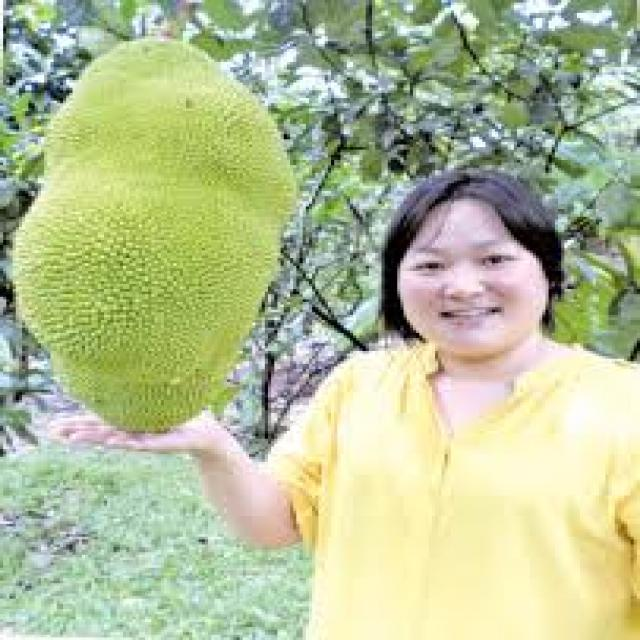organic waste: (3, 29, 290, 434)
